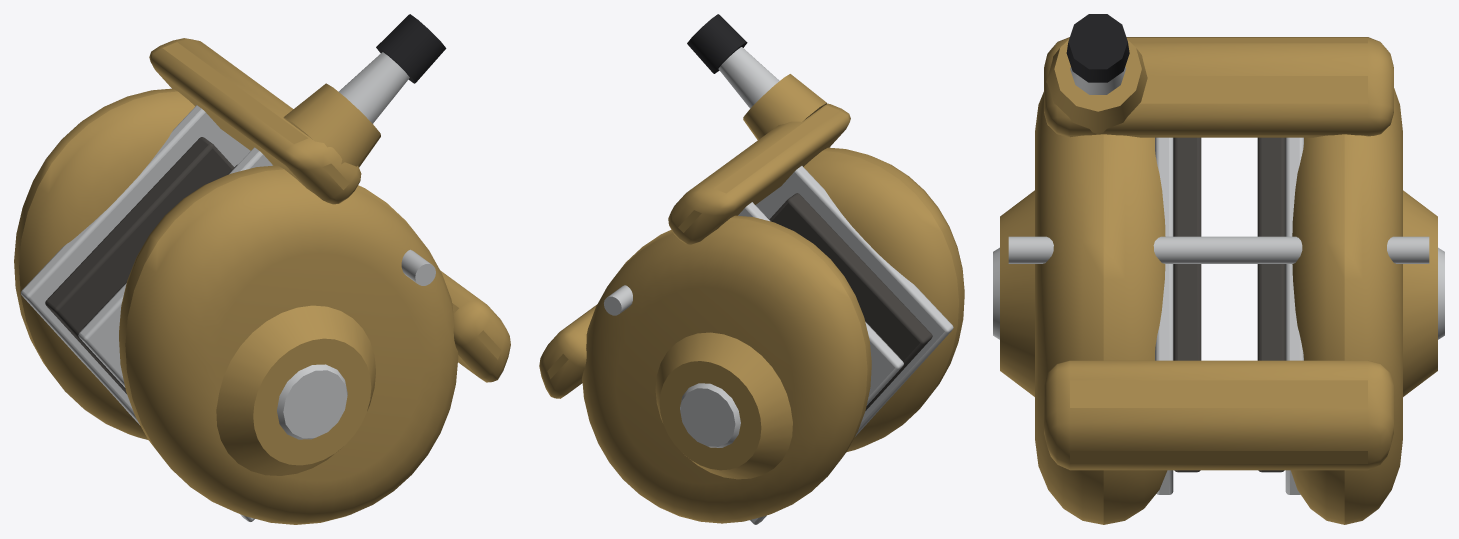
File: lobed.glb
The picture shows the model from 3 angles, left to right: view 1: azimuth 30°, elevation 25°; view 2: azimuth 150°, elevation 25°; view 3: azimuth 270°, elevation 25°; orthographic projection. The views are drawn at different scales.
Visible parts, largest first — view 1: caliper_rear_lobed; view 2: caliper_rear_lobed; view 3: caliper_rear_lobed.
Boxes of the visible parts, x1,y1,x2,y2 form: caliper_rear_lobed: (14, 14, 510, 524); caliper_rear_lobed: (539, 14, 964, 524); caliper_rear_lobed: (993, 14, 1444, 524).
Size of the model in its own units: 0.0575 by 0.0701 by 0.0516.
